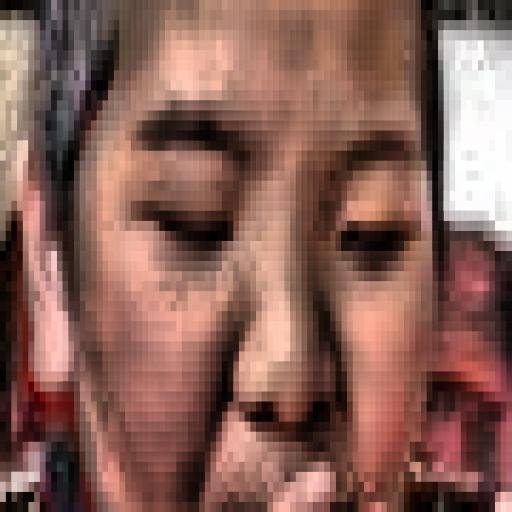Rokok: (0, 0, 501, 512)
